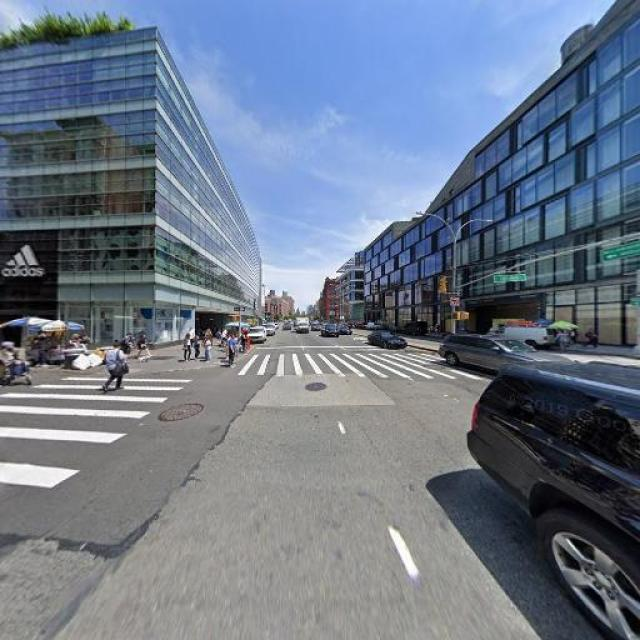Building: (365, 1, 640, 349), (1, 29, 260, 350)
